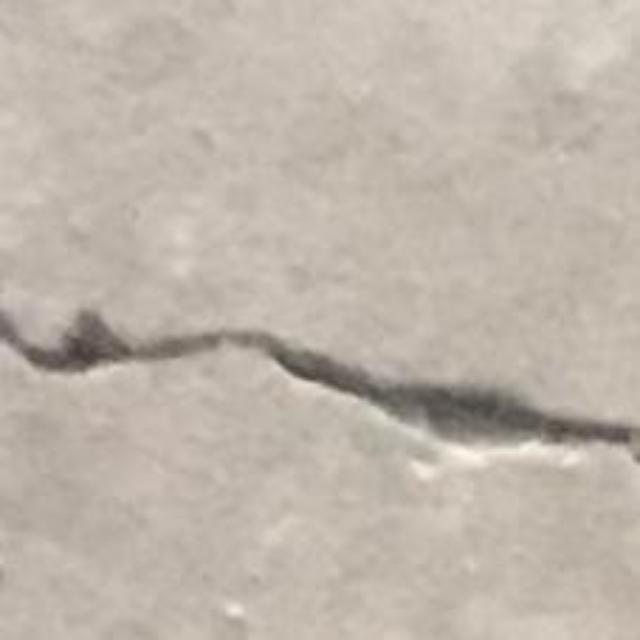crack: (0, 308, 639, 453)
